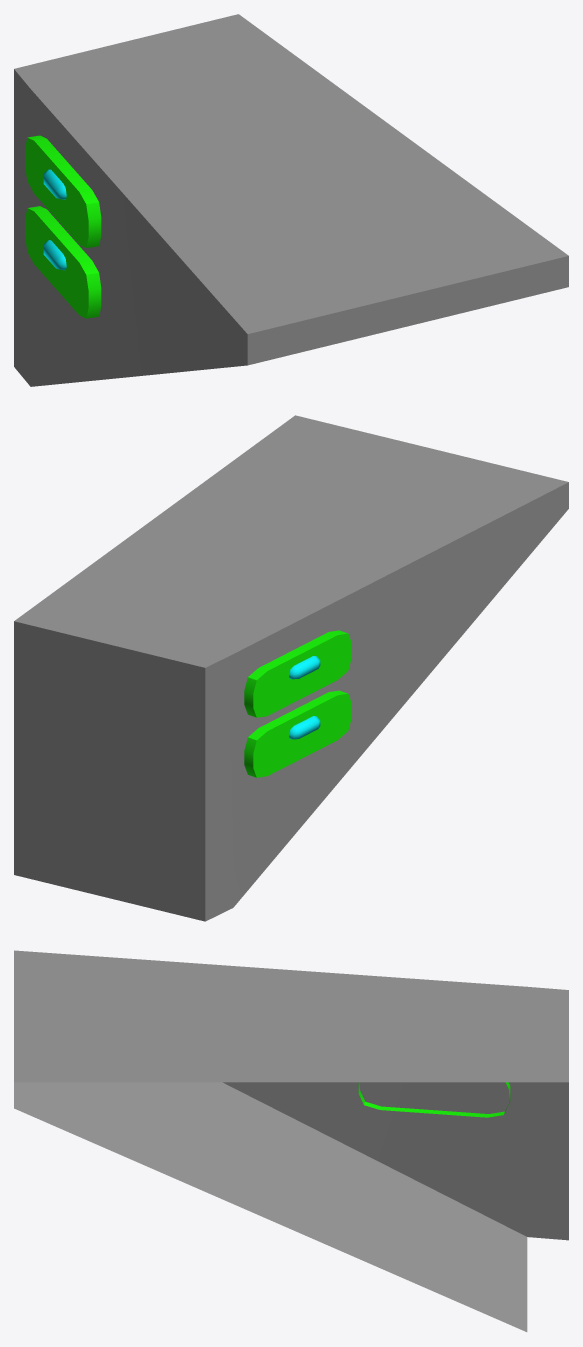
The model's file is comptoir.FBX.
3 renders of one model, top to bottom at view 1: azimuth 30°, elevation 25°; view 2: azimuth 150°, elevation 25°; view 3: azimuth 270°, elevation 25°, orthographic. The views are drawn at different scales.
Visible parts, largest first — view 1: Box026; view 2: Box026; view 3: Box026.
Part boxes in pixels (box(x1,y1,x2,y2)): Box026: box(14, 14, 568, 386); Box026: box(14, 415, 568, 921); Box026: box(14, 950, 568, 1331).
Size of the model in its own units: 55.28 by 48.98 by 98.43.
